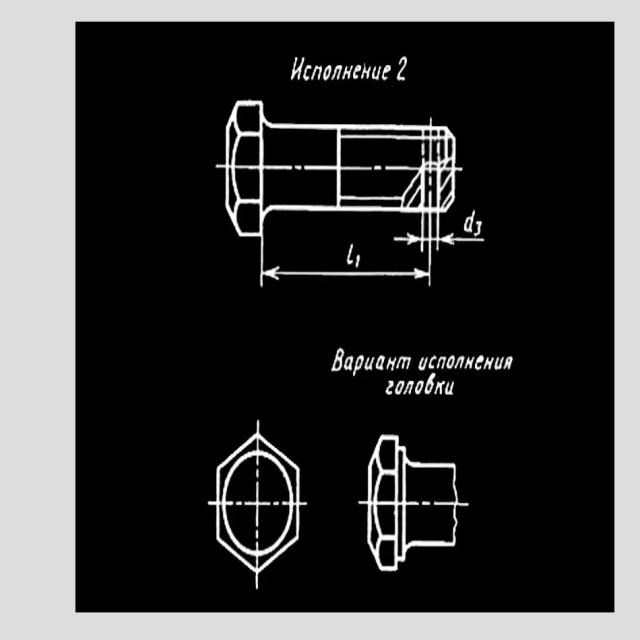marking_line: (262, 265, 429, 282), (437, 229, 493, 250), (389, 231, 424, 247)
